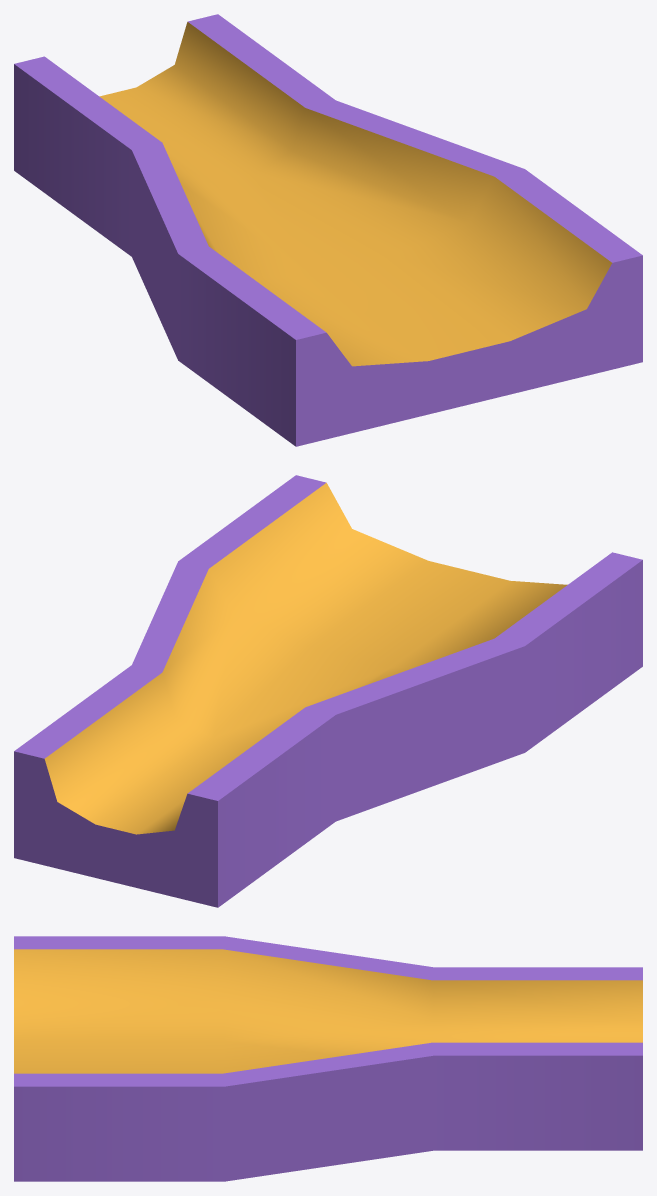
File: funnel-long.glb
The picture shows the model from 3 angles, top to bottom: view 1: azimuth 30°, elevation 25°; view 2: azimuth 150°, elevation 25°; view 3: azimuth 270°, elevation 25°; orthographic projection. The views are drawn at different scales.
Parts seen in each view (by area): view 1: funnel-long; view 2: funnel-long; view 3: funnel-long.
Boxes of the visible parts, <box> form: funnel-long: <box>14,14,642,446</box>; funnel-long: <box>14,475,642,907</box>; funnel-long: <box>14,936,642,1181</box>.
Bounding box in the file's own units: 1.7 × 0.4999 × 3.
Materials: 1 (1 with a texture image).
